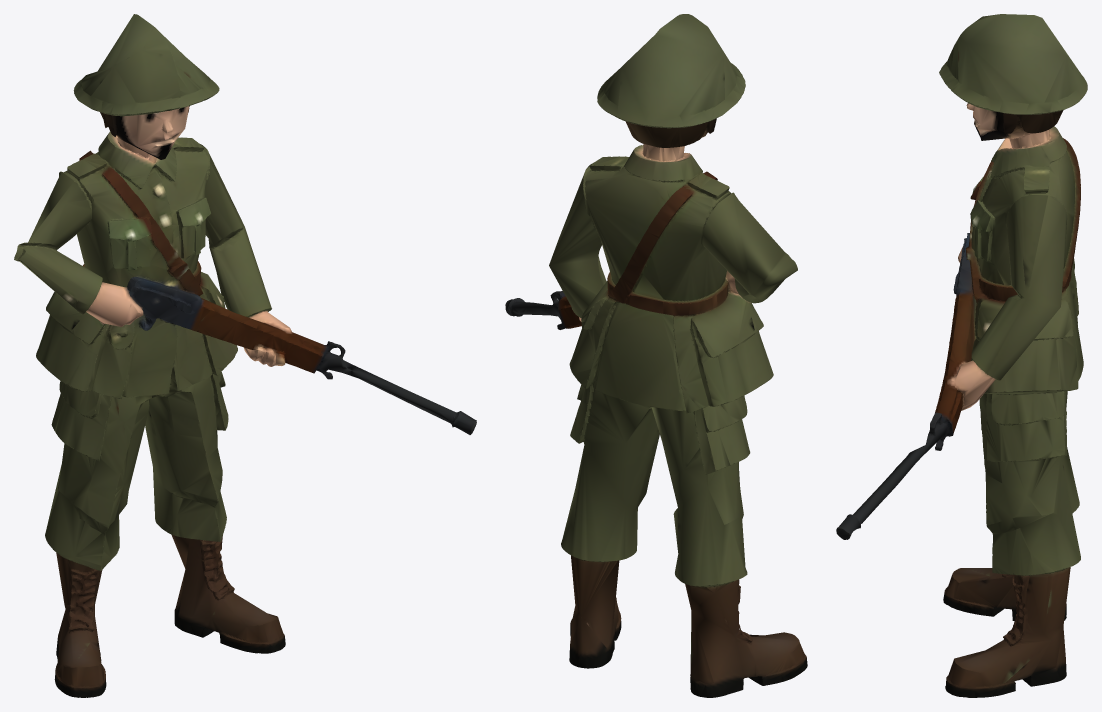
The model's file is soldado_japones.glb.
3 views of the same model, side by side, from view 1: azimuth 30°, elevation 25°; view 2: azimuth 150°, elevation 25°; view 3: azimuth 270°, elevation 25° (orthographic). The views are drawn at different scales.
Parts seen in each view (by area): view 1: model; view 2: model; view 3: model.
Boxes of the visible parts, <box> form: model: <box>14,14,476,697</box>; model: <box>505,14,807,697</box>; model: <box>836,14,1087,697</box>.
Bounding box in the file's own units: 1.06 × 1.71 × 0.6185.
1 material, 1 textured.
